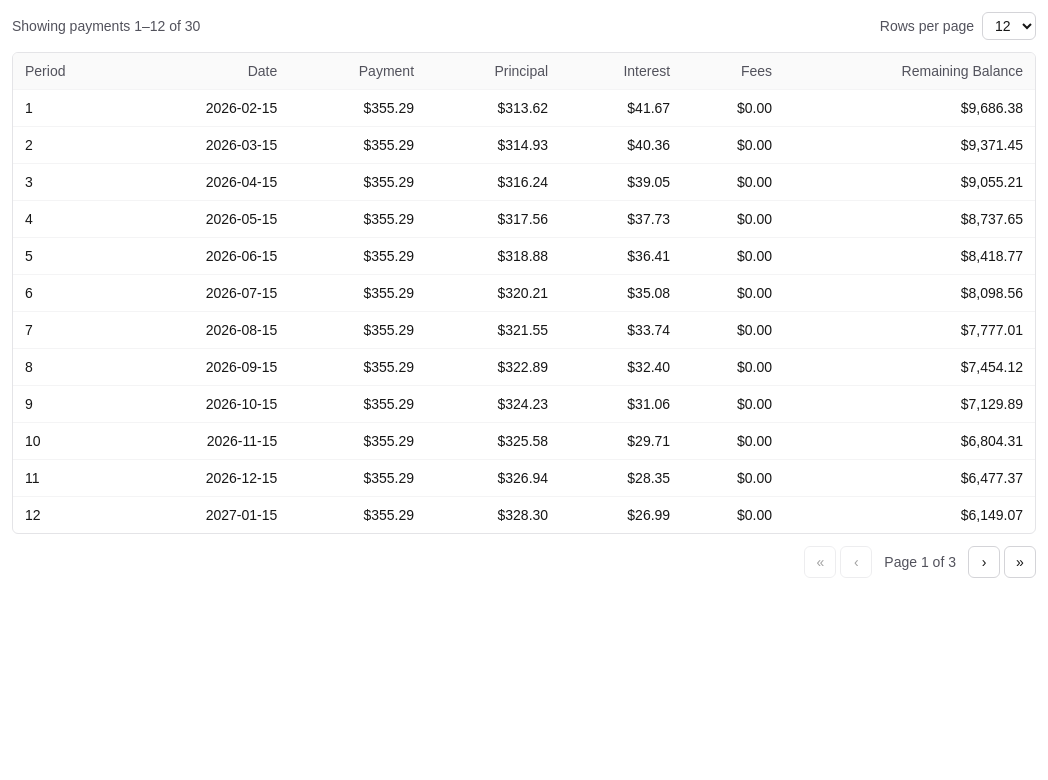
Test case: AmortizationTable (REQ-FUNC-AN01) › jumps to the last page
Click the button named "Last page": (1020, 562) [1004,546,1036,578]
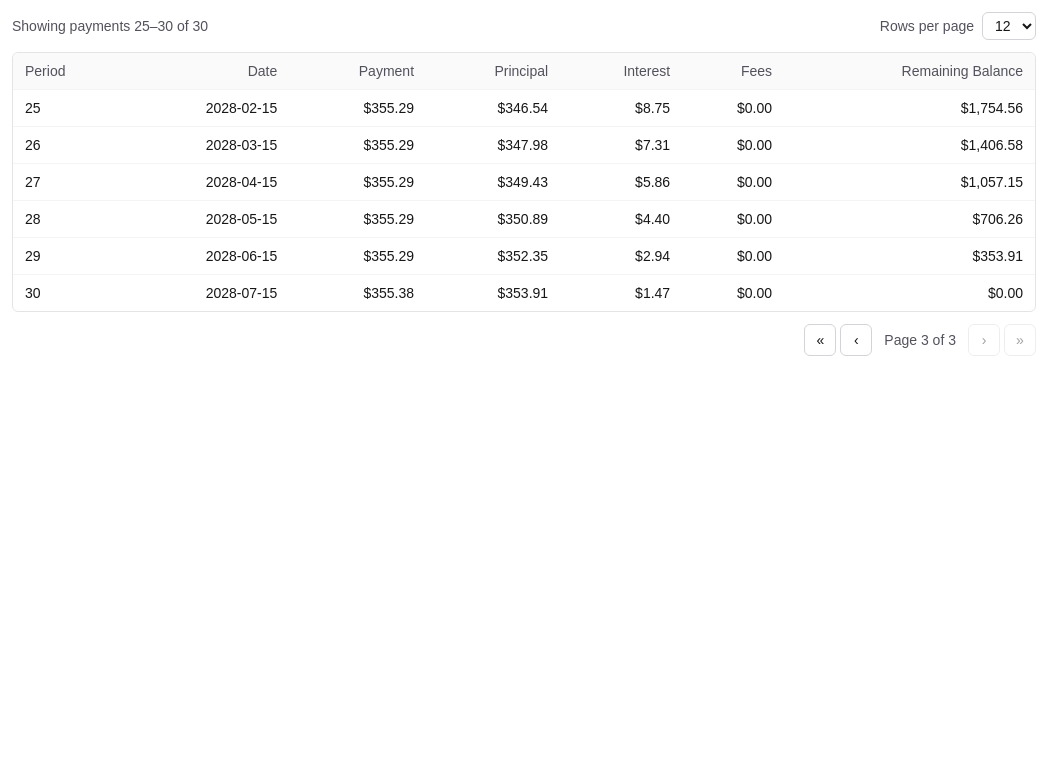
Expected: the 7th cell "$0.00" is shown, [784,274,1035,311]
Result: the message reads "Showing payments 25–30 of 30" at [12,18,208,34]
